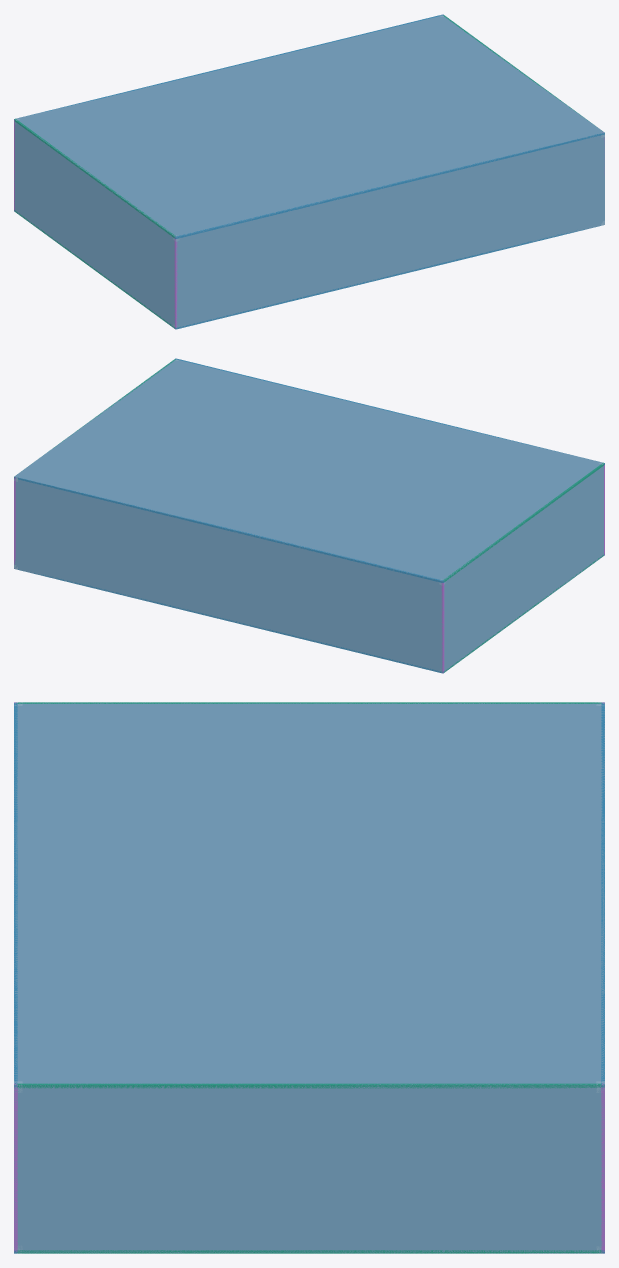
The model's file is total-envelope-total-gpu-asrock-a380-cli-6go.glb.
3 views of the same model, one above another, from view 1: azimuth 30°, elevation 25°; view 2: azimuth 150°, elevation 25°; view 3: azimuth 270°, elevation 25° (orthographic). The views are drawn at different scales.
Visible parts, largest first — view 1: Published outer envelope — not a surface-accurate model, Length guide (×3), Height guide; view 2: Published outer envelope — not a surface-accurate model, Length guide (×3), Height guide; view 3: Published outer envelope — not a surface-accurate model, Height guide (×3), Length guide (×2).
Part boxes in pixels (box(x1,y1,x2,y2)): Published outer envelope — not a surface-accurate model: box(14, 16, 604, 328); Length guide (×3): box(14, 14, 604, 329); Height guide: box(14, 118, 175, 237); Published outer envelope — not a surface-accurate model: box(14, 359, 603, 672); Length guide (×3): box(14, 358, 604, 673); Height guide: box(442, 462, 604, 581); Published outer envelope — not a surface-accurate model: box(14, 702, 604, 1253); Height guide (×3): box(14, 702, 604, 1253); Length guide (×2): box(14, 702, 604, 1088).
Size of the model in its own units: 0.19 by 0.039 by 0.124.
